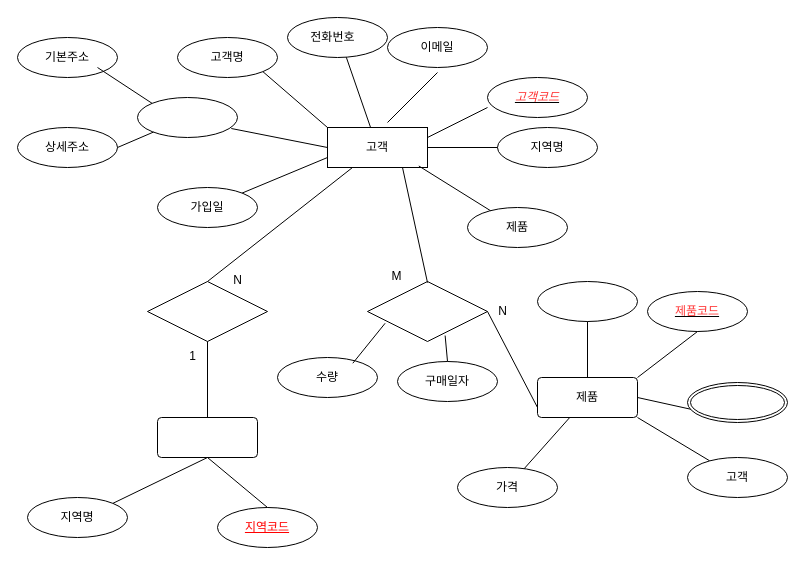
The diagram is 805 pixels wide and 565 high, and some of its shapes have lost their labels. The box of each missing label's shape, as (x1, y1, x2, y2) in pixels:
관리: (146, 280, 268, 342)
구매: (366, 280, 488, 342)
제품구분: (536, 280, 638, 322)
제품색상: (686, 382, 788, 422)
주소: (136, 96, 238, 138)
지역: (156, 416, 258, 458)
